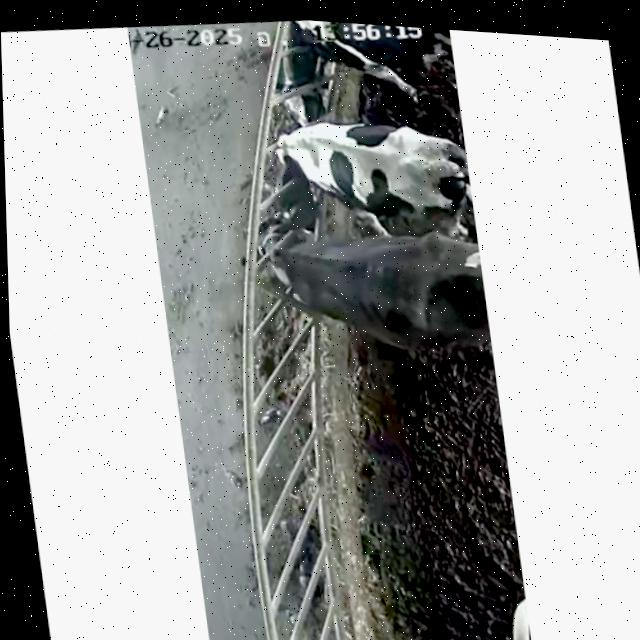eat: (201, 13, 433, 129), (184, 181, 369, 318), (202, 102, 404, 200)
